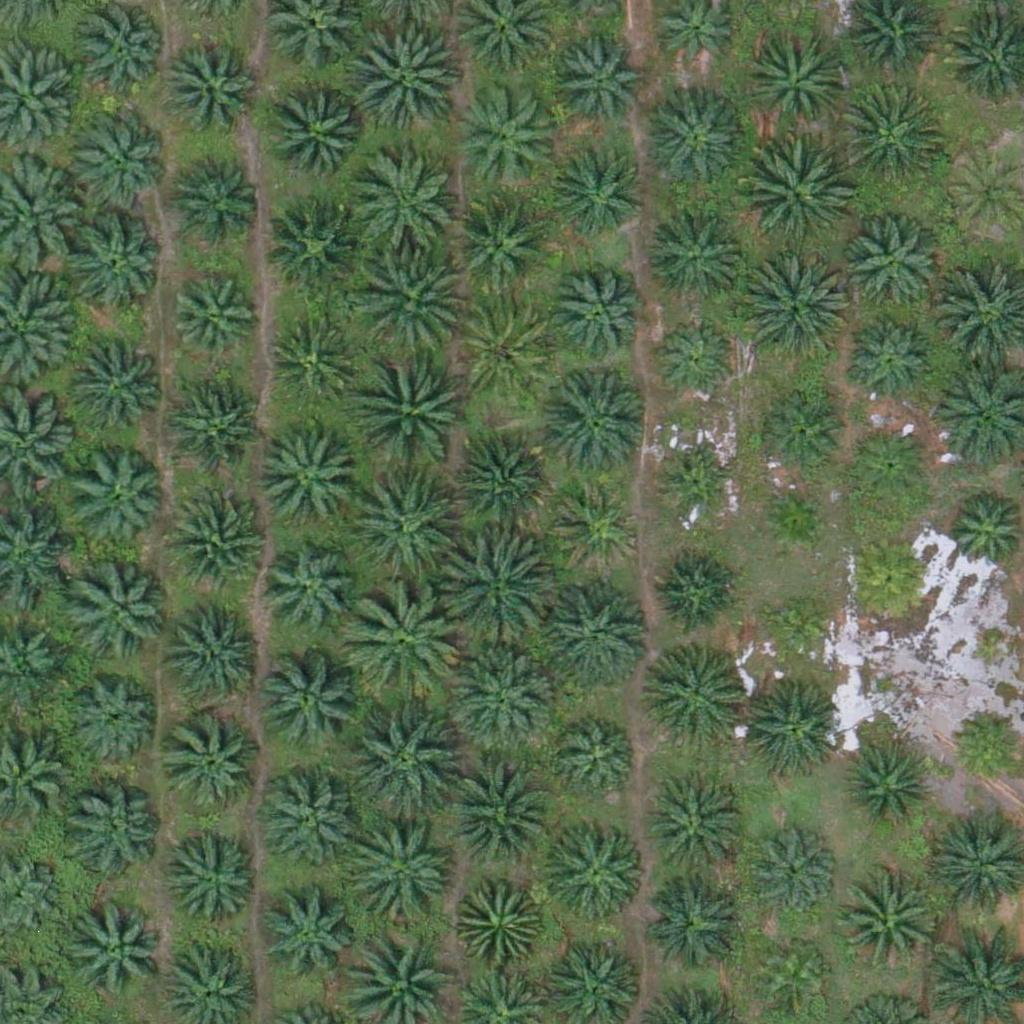Kelapa_Sawit: (344, 472, 457, 586), (353, 244, 466, 358), (349, 819, 462, 932), (348, 703, 461, 816), (737, 251, 850, 364), (738, 139, 851, 252), (347, 152, 460, 265), (353, 23, 466, 136), (449, 640, 561, 754), (355, 347, 467, 461), (346, 586, 458, 699), (436, 534, 548, 647), (441, 755, 553, 868), (539, 575, 651, 688), (836, 81, 948, 194), (538, 365, 650, 478), (65, 445, 165, 546), (71, 899, 171, 1000), (163, 713, 263, 814), (164, 489, 264, 590), (261, 540, 361, 641), (259, 650, 359, 751), (254, 886, 354, 987), (545, 817, 645, 918), (647, 781, 747, 882), (645, 872, 745, 973), (738, 679, 838, 780), (837, 872, 937, 973), (841, 213, 941, 314), (745, 32, 845, 133), (643, 92, 743, 193), (645, 205, 745, 306), (547, 264, 647, 365), (453, 82, 553, 183), (450, 192, 550, 293), (166, 377, 266, 478), (65, 210, 165, 311), (63, 336, 163, 437), (68, 5, 168, 105), (70, 564, 170, 664), (61, 781, 161, 881), (164, 829, 264, 929), (171, 600, 271, 700), (255, 431, 355, 531), (258, 768, 358, 868), (451, 435, 551, 535), (644, 643, 744, 743), (456, 301, 556, 401), (267, 83, 367, 183), (267, 197, 367, 297), (170, 148, 270, 248), (162, 39, 262, 139), (71, 112, 171, 212), (845, 533, 933, 622), (845, 420, 933, 508), (650, 318, 738, 406), (553, 150, 641, 238), (552, 41, 640, 129), (266, 316, 354, 404), (168, 278, 256, 366), (847, 316, 934, 405), (553, 483, 640, 571), (70, 675, 157, 763), (456, 875, 543, 963), (557, 717, 644, 805), (652, 547, 739, 635), (750, 824, 837, 912), (844, 744, 931, 832), (756, 390, 843, 478), (948, 705, 1023, 781), (756, 482, 831, 558), (760, 590, 835, 666), (662, 453, 737, 528), (757, 938, 832, 1013)
